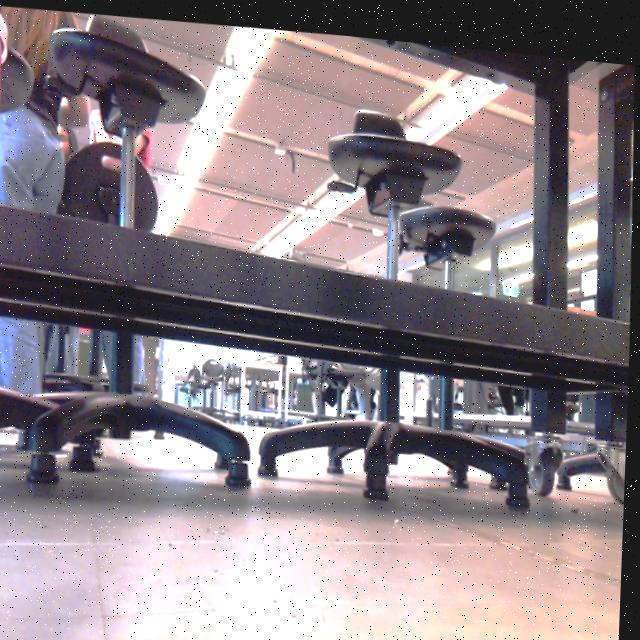redpringles: (0, 4, 50, 640)
